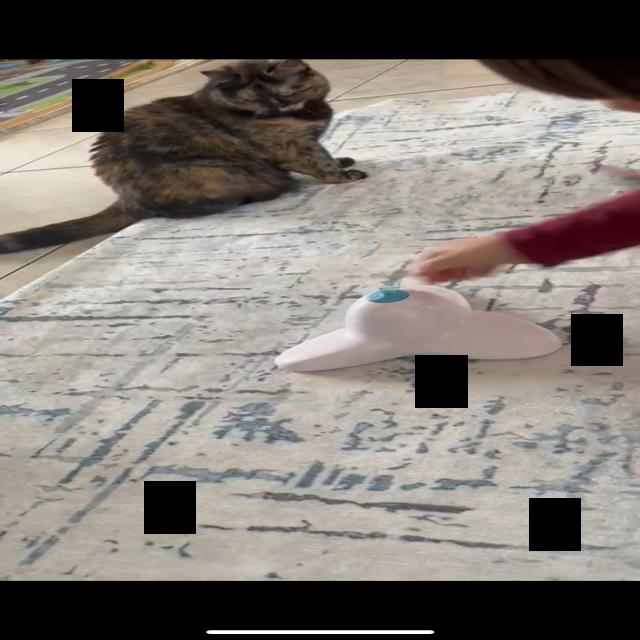authorized: (1, 58, 368, 255)
